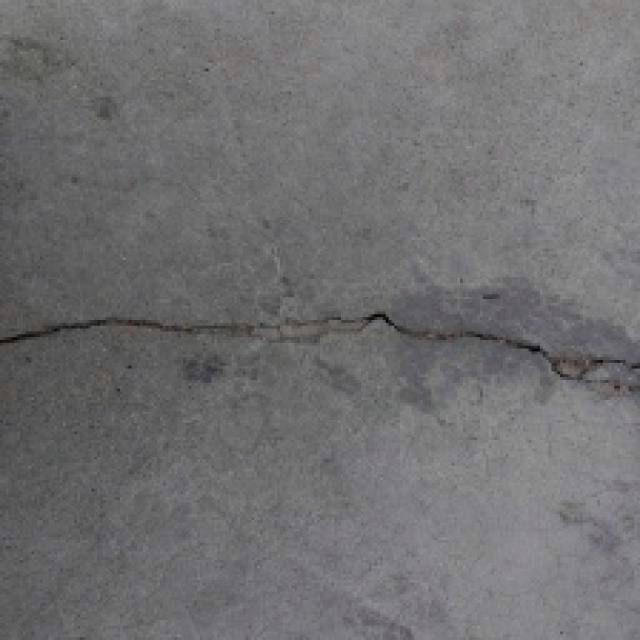SurfaceCrack: (2, 304, 640, 384)
